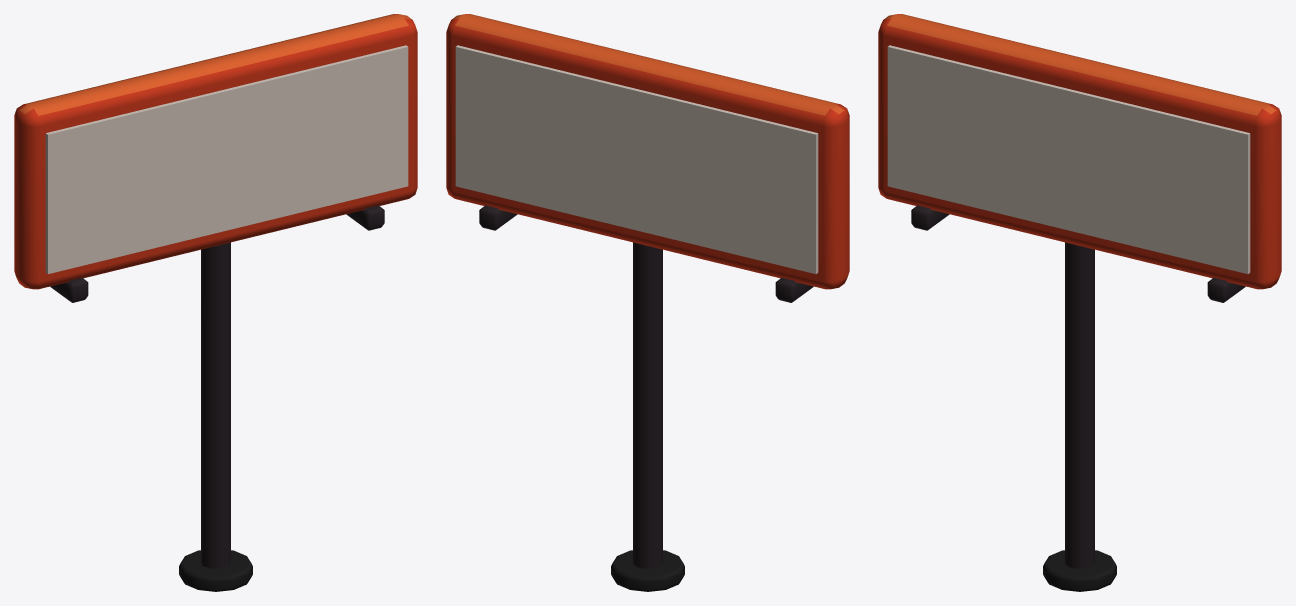
The model's file is candy-sign.glb.
The picture shows the model from 3 angles, left to right: view 1: azimuth 30°, elevation 25°; view 2: azimuth 150°, elevation 25°; view 3: azimuth 330°, elevation 25°; orthographic projection.
Parts seen in each view (by area): view 1: candy-sign; view 2: candy-sign; view 3: candy-sign.
Part boxes in pixels (left/top/right/bottom): candy-sign: left=14, top=14, right=417, bottom=591; candy-sign: left=446, top=14, right=849, bottom=591; candy-sign: left=878, top=14, right=1281, bottom=591.
Bounding box in the file's own units: 1.6 × 2 × 0.26.
